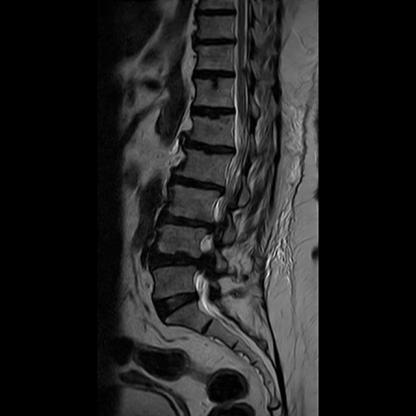Disc Bulgerotation: (139, 241, 223, 275), (156, 205, 220, 236), (152, 291, 205, 323), (164, 173, 228, 198)
